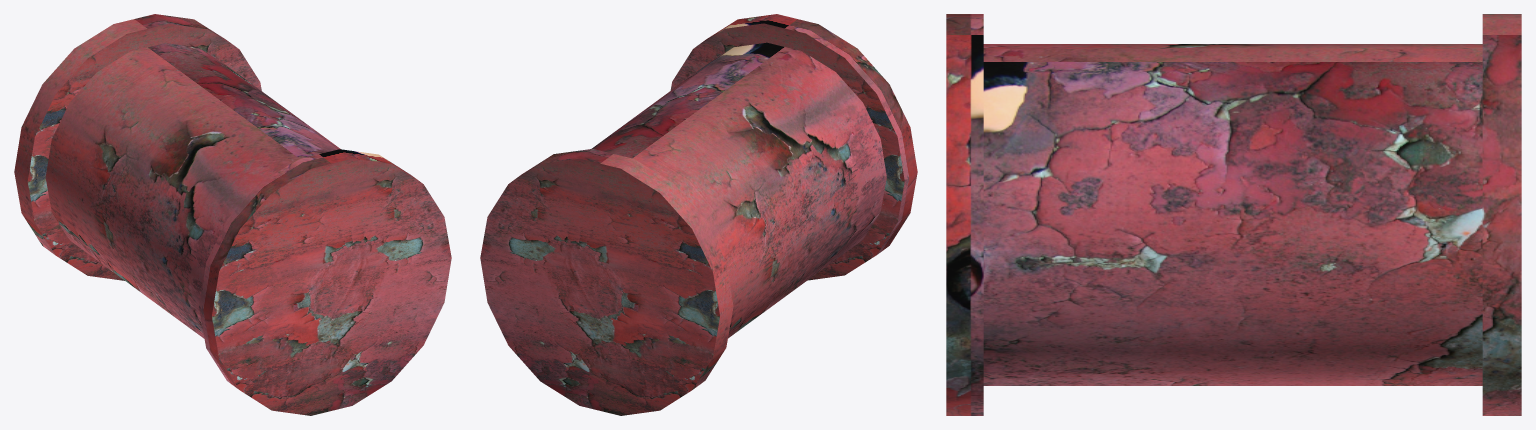
The model's file is straight pipe red.obj.
3 views of the same model, side by side, from view 1: azimuth 30°, elevation 25°; view 2: azimuth 150°, elevation 25°; view 3: azimuth 270°, elevation 25° (orthographic). The views are drawn at different scales.
Parts seen in each view (by area): view 1: Straight_pipe; view 2: Straight_pipe; view 3: Straight_pipe.
Part boxes in pixels (x1=…): Straight_pipe: x1=14, y1=14, x2=451, y2=415; Straight_pipe: x1=480, y1=14, x2=917, y2=415; Straight_pipe: x1=946, y1=14, x2=1521, y2=415.
Size of the model in its own units: 35.14 by 34.61 by 50.12.
